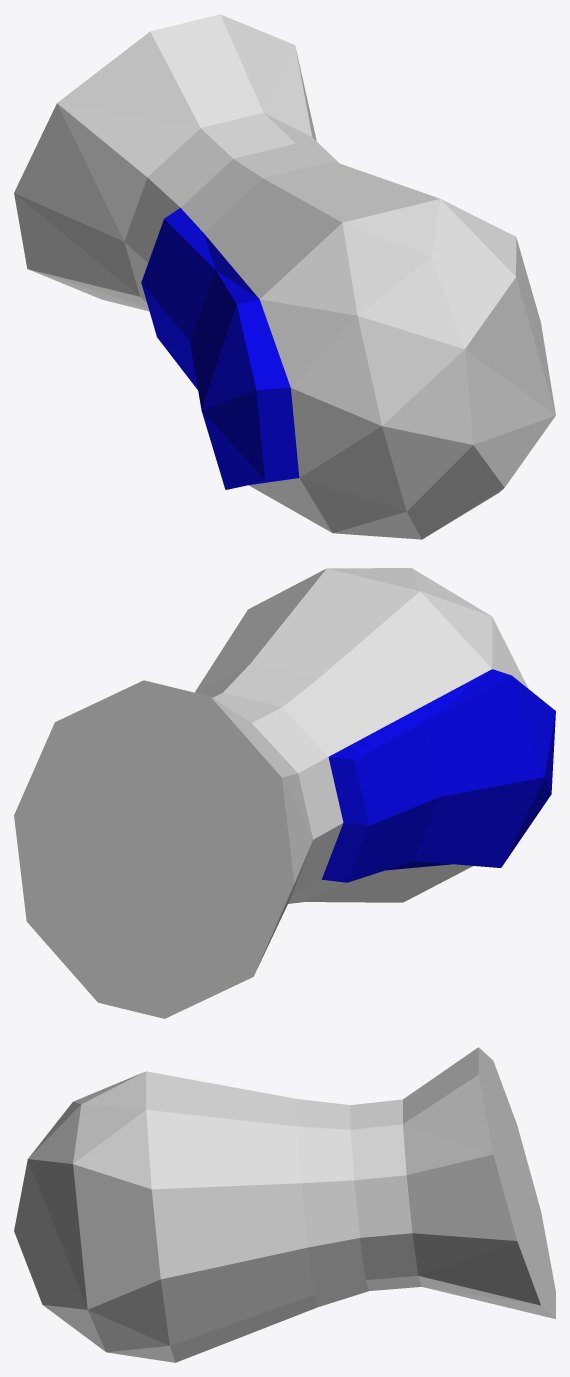
File: musloizquierdo.dae
3 renders of one model, top to bottom at view 1: azimuth 30°, elevation 25°; view 2: azimuth 150°, elevation 25°; view 3: azimuth 270°, elevation 25°, orthographic. The views are drawn at different scales.
Parts seen in each view (by area): view 1: thigh_00_001, thigh_00_000; view 2: thigh_00_001, thigh_00_000; view 3: thigh_00_001.
Part boxes in pixels (left/top/right/bottom): thigh_00_001: left=14, top=14, right=555, bottom=539; thigh_00_000: left=141, top=208, right=299, bottom=489; thigh_00_001: left=14, top=568, right=528, bottom=1018; thigh_00_000: left=322, top=669, right=555, bottom=882; thigh_00_001: left=14, top=1047, right=555, bottom=1362.
Bounding box in the file's own units: 1.52 × 2.57 × 1.48.
